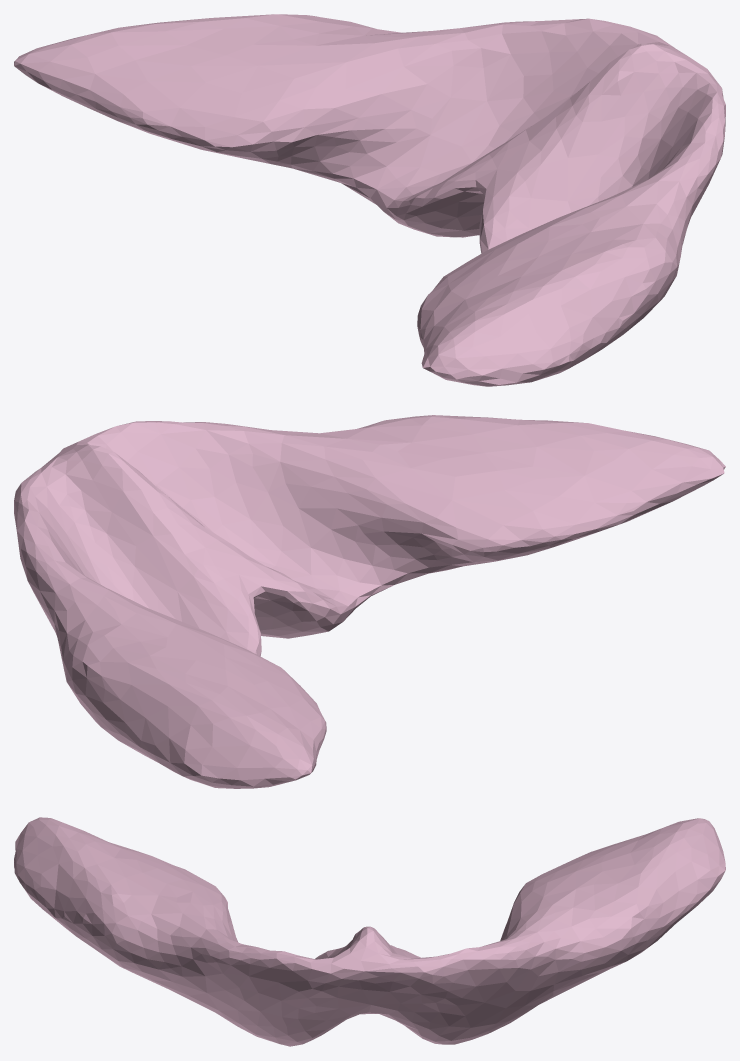
3 views of the same model, one above another, from view 1: azimuth 30°, elevation 25°; view 2: azimuth 150°, elevation 25°; view 3: azimuth 270°, elevation 25° (orthographic). The views are drawn at different scales.
Parts seen in each view (by area): view 1: 651.obj; view 2: 651.obj; view 3: 651.obj.
Boxes of the visible parts, box(x1,y1,x2,y2) form: 651.obj: box(14, 14, 725, 386); 651.obj: box(14, 415, 725, 788); 651.obj: box(14, 817, 725, 1046).
Bounding box in the file's own units: 1971 × 777 × 3202.
